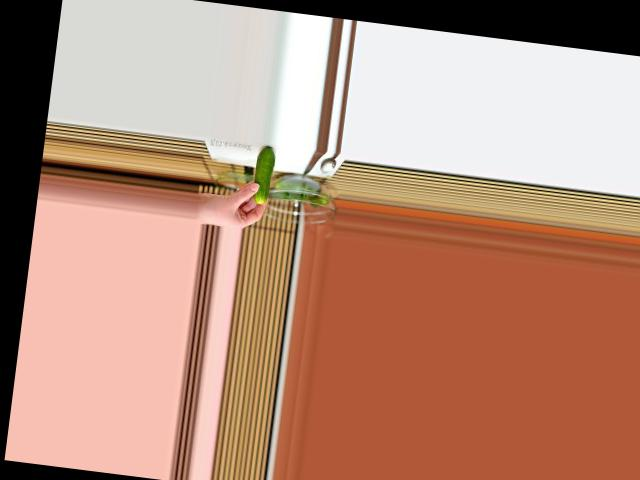cucumber: (251, 145, 276, 205)
